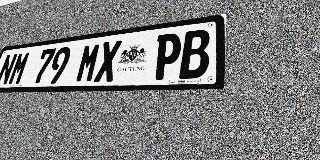7: (31, 48, 56, 84)
9: (46, 46, 72, 84)
B: (179, 29, 211, 79)
M: (74, 42, 102, 83), (7, 51, 31, 85)
N: (0, 53, 18, 86)
P: (152, 32, 182, 80)
X: (94, 40, 122, 82)
